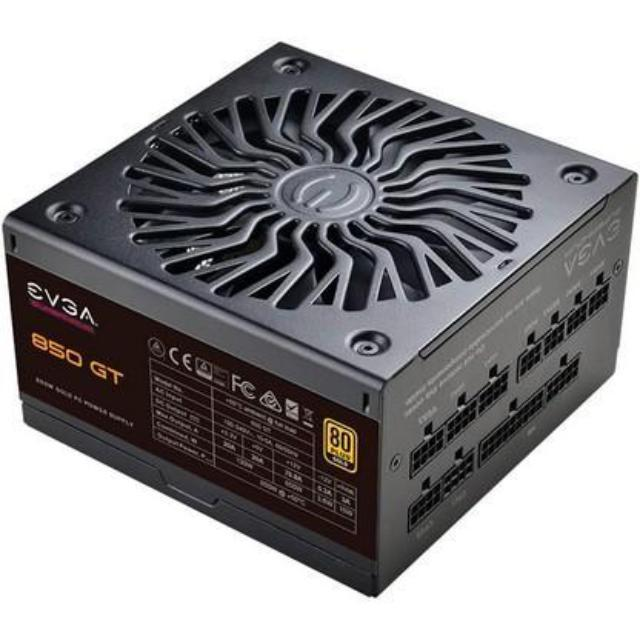PSU: (0, 31, 640, 620)
